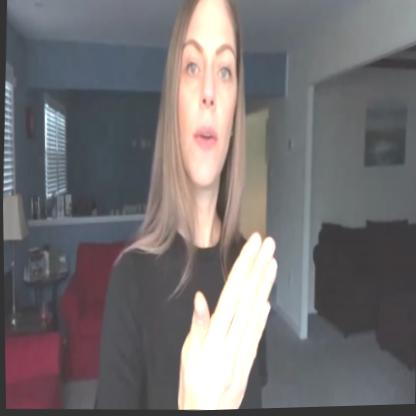ThankYou: (143, 0, 287, 413)
